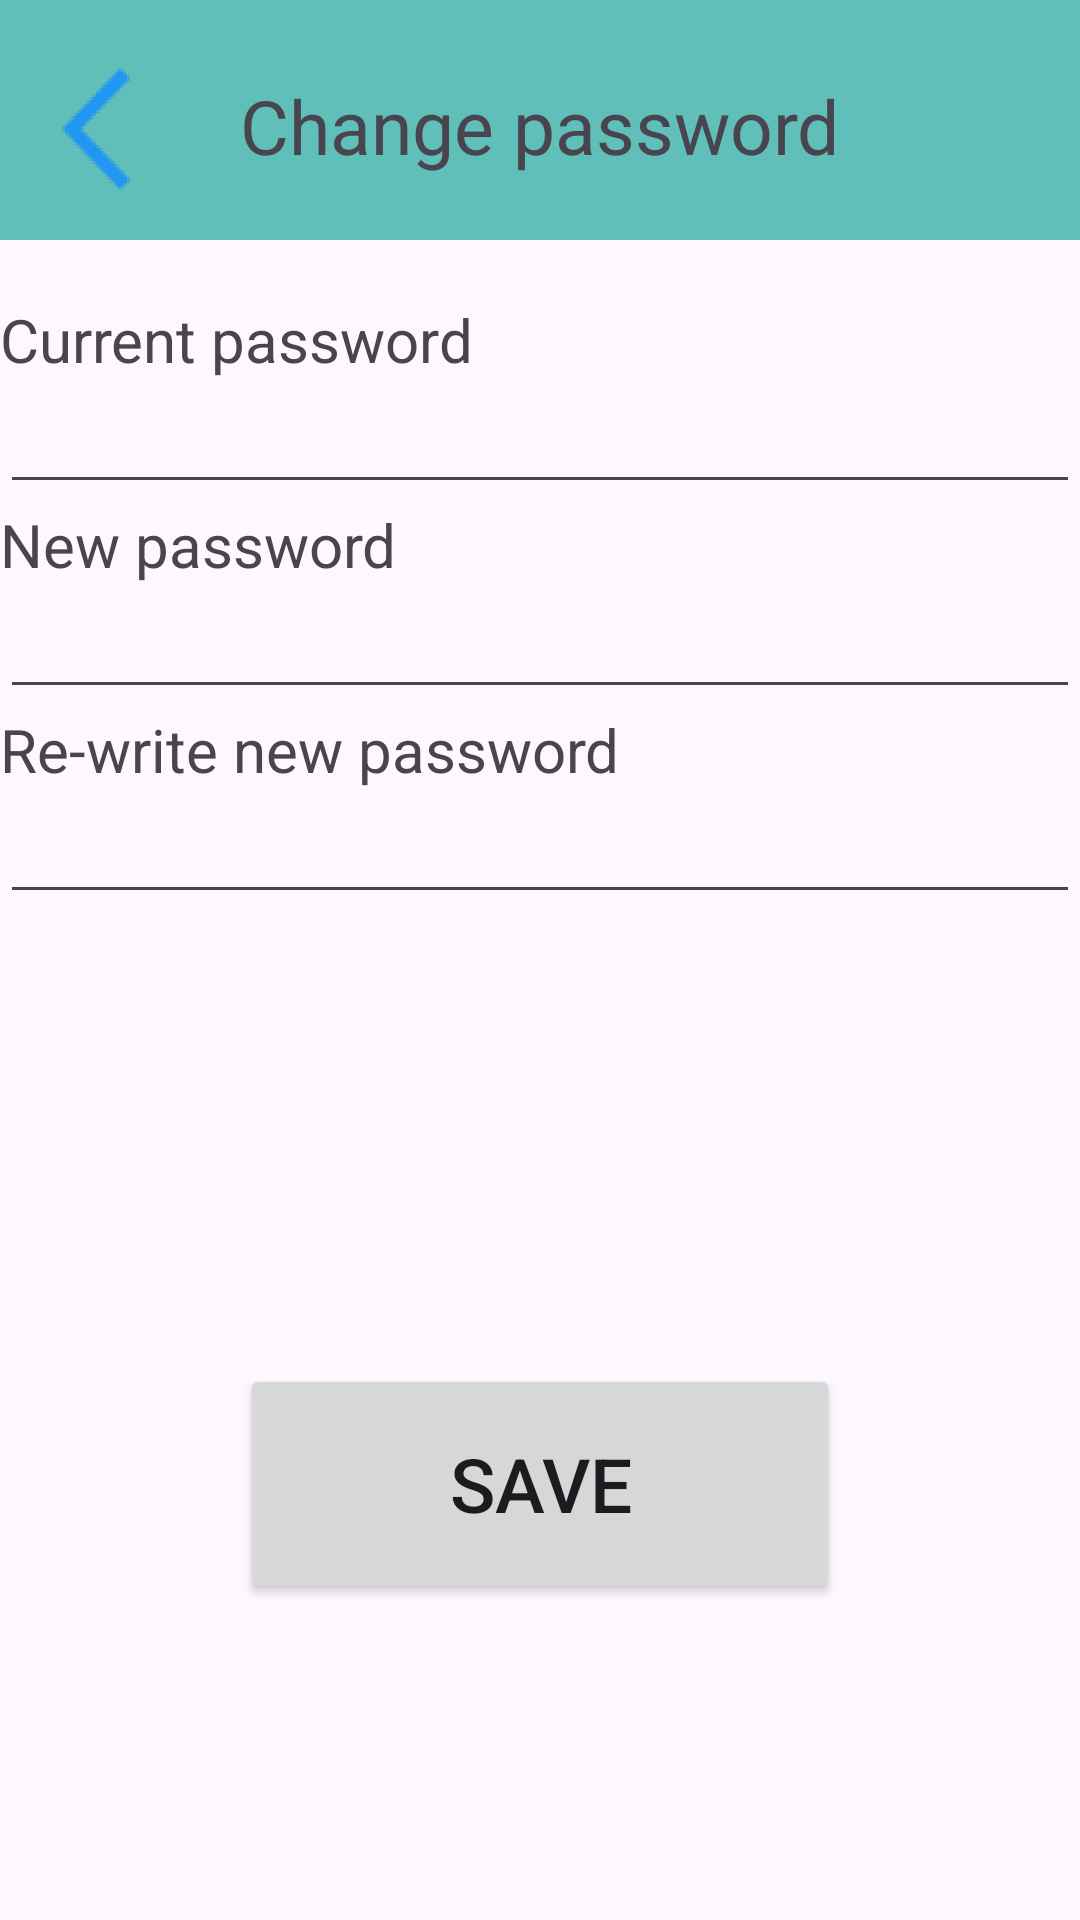

Locate icon controls on the screen. Image size 1080 × 1920, boxes as bbox(x1, y1, x2, y2).
back: bbox(62, 69, 130, 189)
